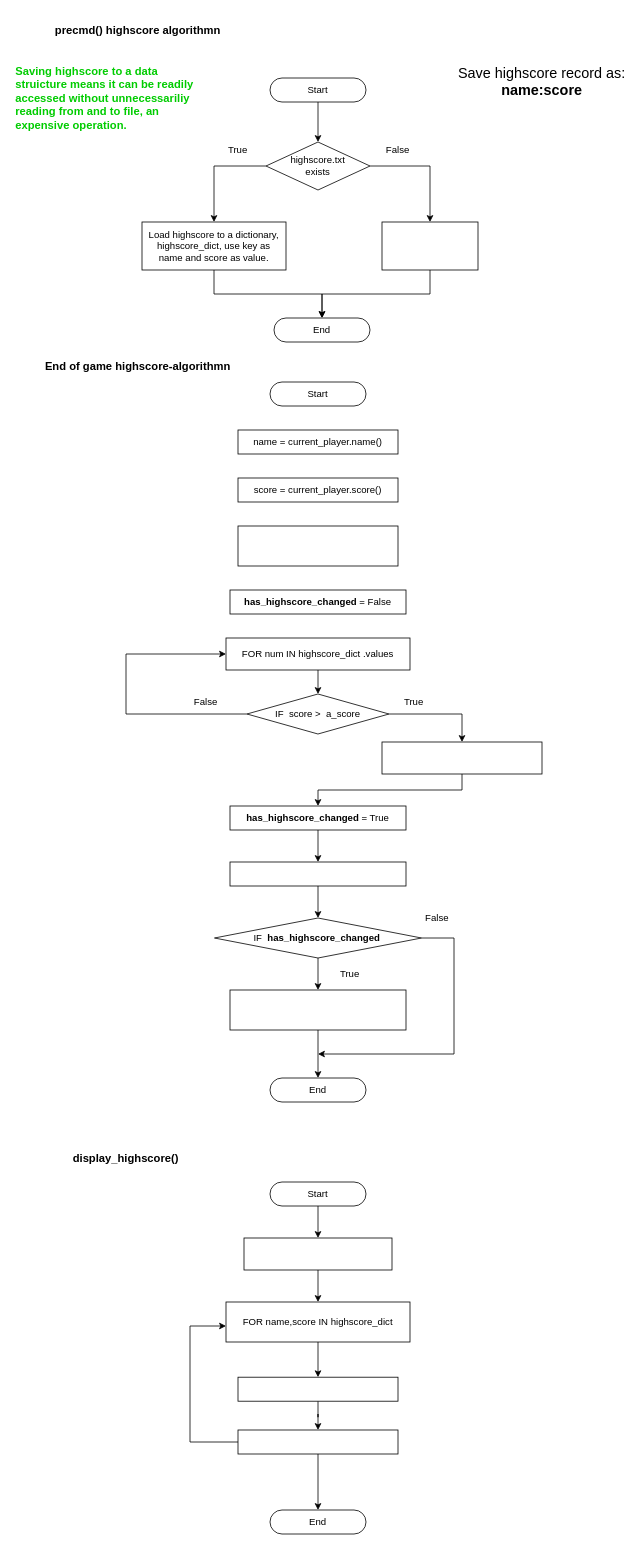
The diagram is 643 pixels wide and 1548 high, and some of its shapes have lost their labels. The shapes that lost their labels are listed below. From the top down, each one's box as (x1, y1, x2, y2) in pixels, then its label:
(381, 221, 478, 270): create highscore.txt
(237, 525, 398, 566): sort highcore_dict based on scores descending (High2Low)
(381, 741, 542, 774): Replace the new name, score pair in highscore_dict
(229, 861, 406, 886): Break from loop
(229, 989, 406, 1030): Replace highscore.txt with the updated highscore_dict
(243, 1237, 392, 1270): print(Highscore)
(237, 1376, 398, 1401): Parse name:score
(237, 1429, 398, 1454): print(index name score)
